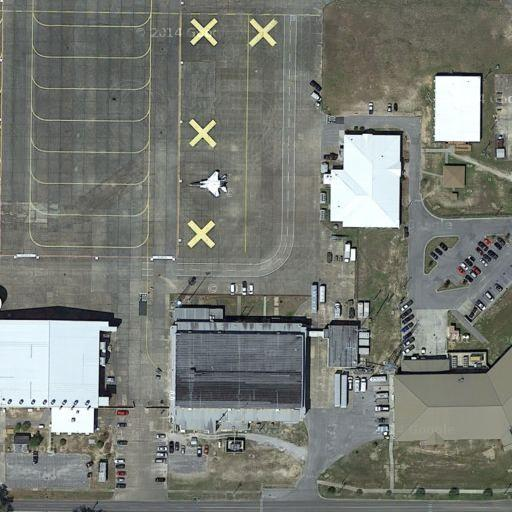F-15: (187, 168, 234, 198)
